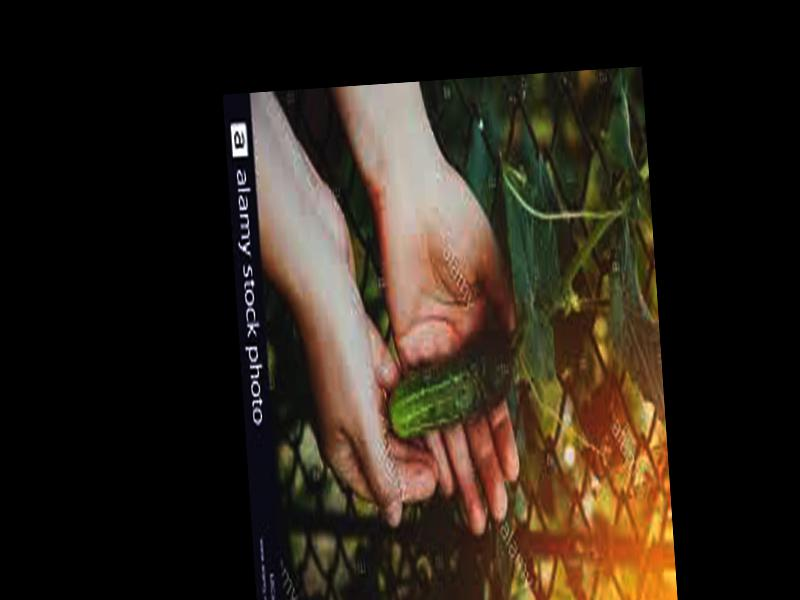Cucumber: (382, 332, 516, 442)
